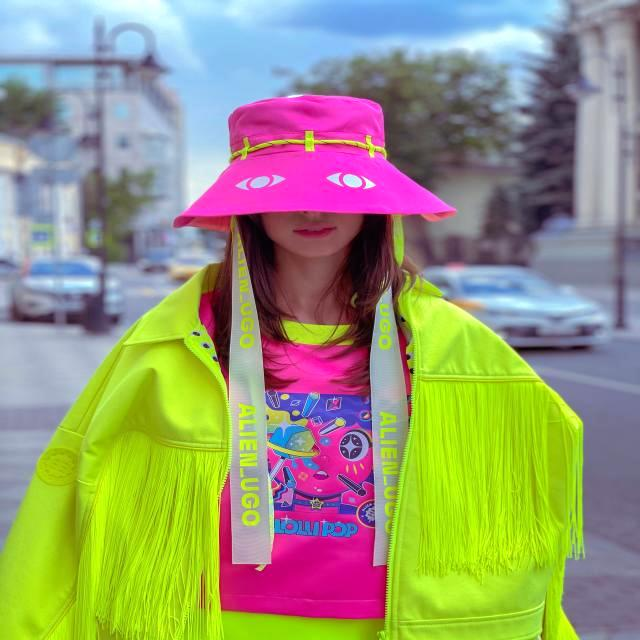no_hard_hat: (174, 95, 456, 231)
person: (2, 96, 582, 640)
